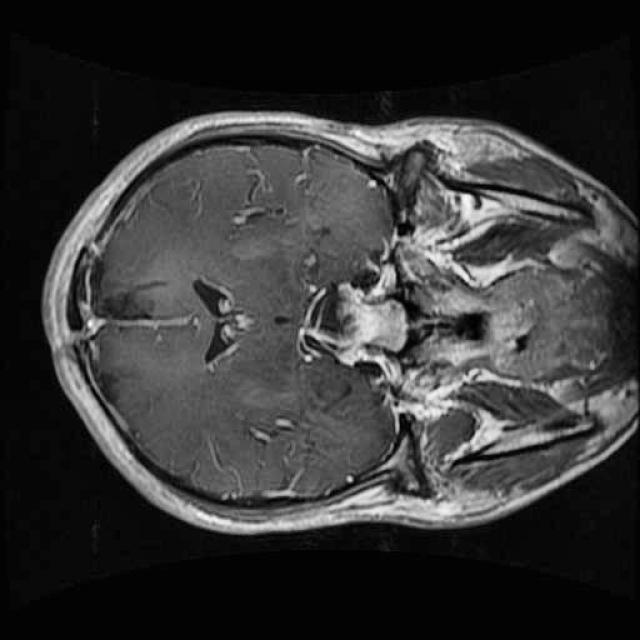Non-Tumor: (84, 239, 188, 346)
